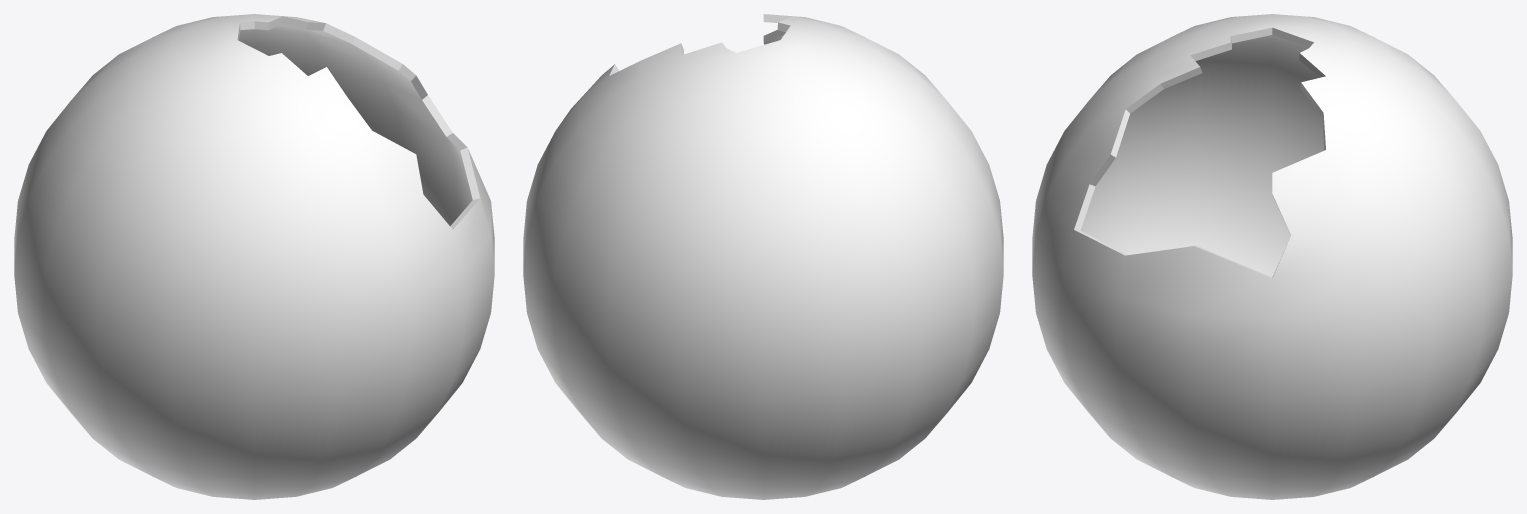
The model's file is BrokenGlobe.fbx.
The picture shows the model from 3 angles, left to right: view 1: azimuth 30°, elevation 25°; view 2: azimuth 150°, elevation 25°; view 3: azimuth 270°, elevation 25°; orthographic projection.
Visible parts, largest first — view 1: pSphere1; view 2: pSphere1; view 3: pSphere1.
Boxes of the visible parts, bbox=[...] form: pSphere1: bbox=[14, 14, 494, 499]; pSphere1: bbox=[523, 14, 1003, 499]; pSphere1: bbox=[1032, 14, 1512, 499].
Bounding box in the file's own units: 7.38 × 7.38 × 7.27.
